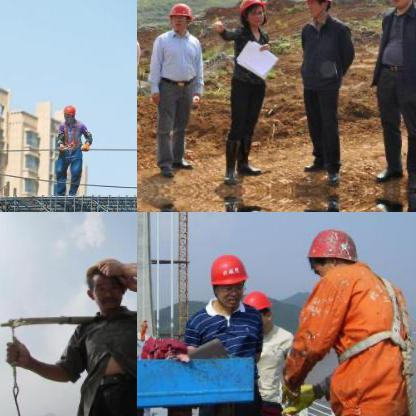Helmet: (306, 224, 354, 282), (81, 254, 130, 308), (206, 248, 248, 310), (244, 290, 276, 332), (236, 0, 269, 29), (166, 0, 194, 31), (302, 0, 333, 20), (62, 100, 74, 121)
